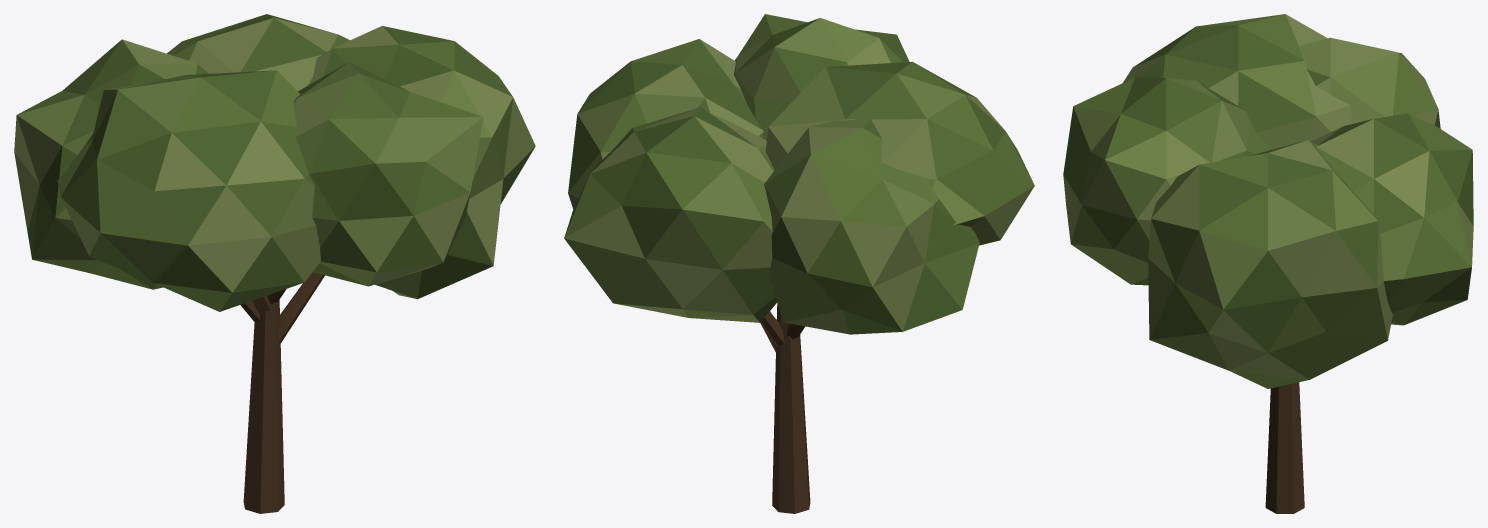
File: Tree01.obj
3 renders of one model, left to right at view 1: azimuth 30°, elevation 25°; view 2: azimuth 150°, elevation 25°; view 3: azimuth 270°, elevation 25°, orthographic. The views are drawn at different scales.
Parts seen in each view (by area): view 1: Crown, Trunk; view 2: Crown, Trunk; view 3: Crown, Trunk.
Boxes of the visible parts, bbox=[...] form: Crown: bbox=[14, 14, 535, 311]; Trunk: bbox=[240, 272, 324, 513]; Crown: bbox=[564, 14, 1034, 334]; Trunk: bbox=[760, 303, 810, 513]; Crown: bbox=[1063, 14, 1473, 388]; Trunk: bbox=[1265, 382, 1304, 513].
Size of the model in its own units: 5.62 by 5.59 by 4.69.
